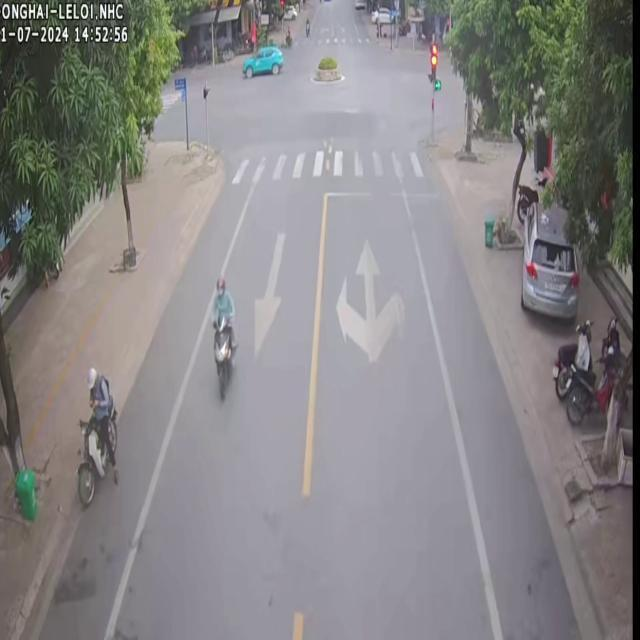car: (519, 200, 578, 319), (240, 42, 282, 76)
motobike: (76, 365, 117, 504), (564, 347, 623, 422), (550, 318, 590, 398), (209, 276, 234, 398)
red_light: (431, 44, 437, 82)
stop_line: (328, 189, 446, 195)
